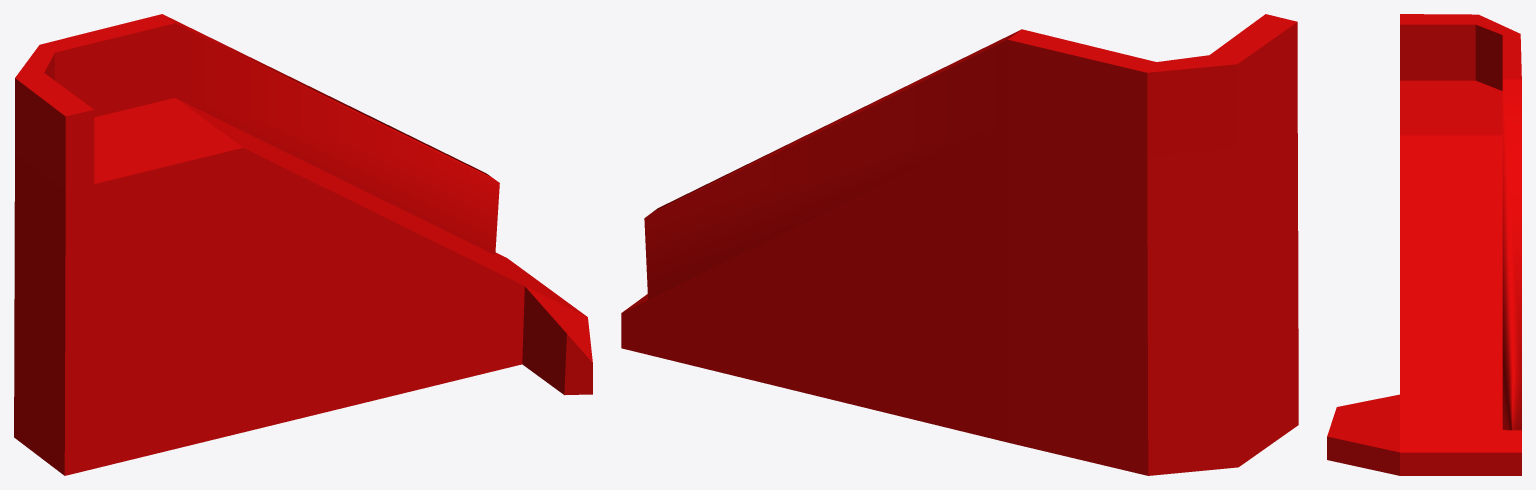
File: SM_Bld_Vendor_09_Stairs_Collision.fbx
The picture shows the model from 3 angles, left to right: view 1: azimuth 30°, elevation 25°; view 2: azimuth 150°, elevation 25°; view 3: azimuth 270°, elevation 25°; orthographic projection. The views are drawn at different scales.
Parts seen in each view (by area): view 1: SM_Bld_Vendor_09_Stairs_Collision; view 2: SM_Bld_Vendor_09_Stairs_Collision; view 3: SM_Bld_Vendor_09_Stairs_Collision.
Boxes of the visible parts, x1,y1,x2,y2 form: SM_Bld_Vendor_09_Stairs_Collision: (14, 14, 592, 475); SM_Bld_Vendor_09_Stairs_Collision: (621, 14, 1298, 475); SM_Bld_Vendor_09_Stairs_Collision: (1327, 14, 1521, 475).
Bounding box in the file's own units: 913 × 599 × 391.
